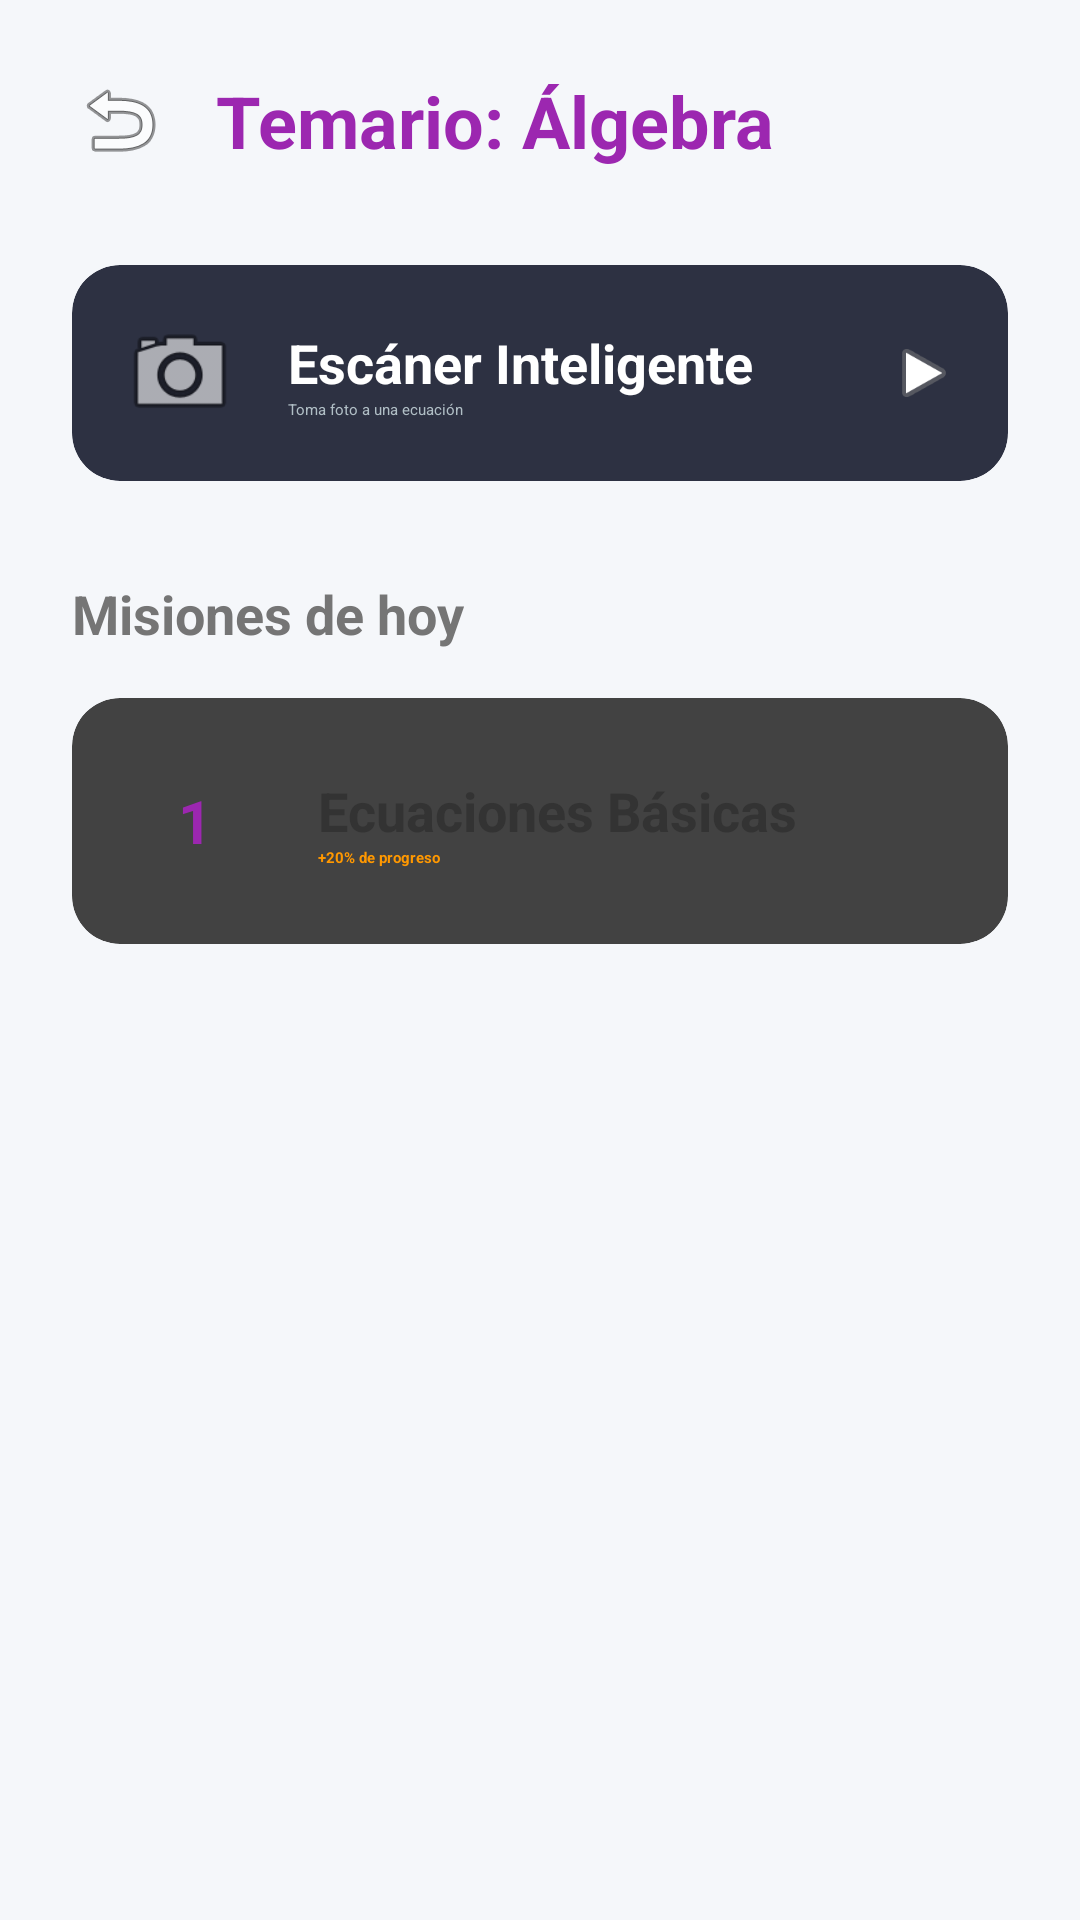

Icons on this 1080×1920 Android screen, each with its box as box(x1, y1, x2, y2):
camera: box(135, 336, 225, 406)
play: box(902, 349, 946, 397)
revert: box(87, 89, 156, 152)
